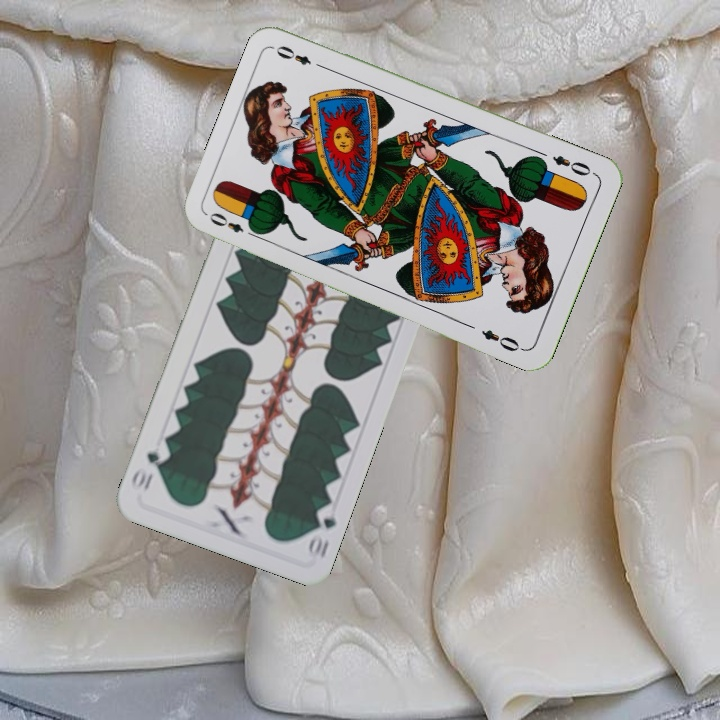EO: (205, 208, 261, 241), (548, 151, 594, 179)
G10: (303, 501, 339, 562)
